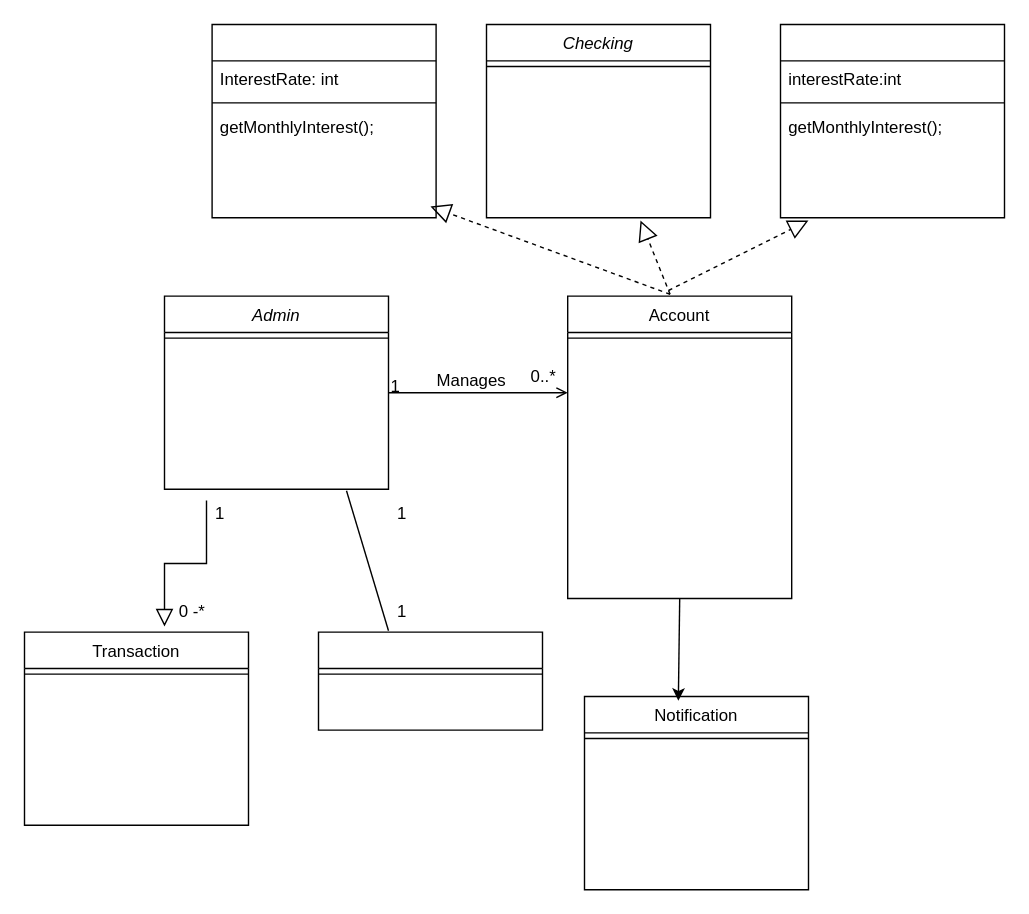
Some shapes in this 1029 by 914 pixel diagram are drawn without their labels. The box of each missing label's shape, as (x1, y1, x2, y2) in pixels:
Bank: (317, 631, 542, 730)
Credit: (779, 23, 1004, 218)
Saving: (211, 23, 436, 218)
